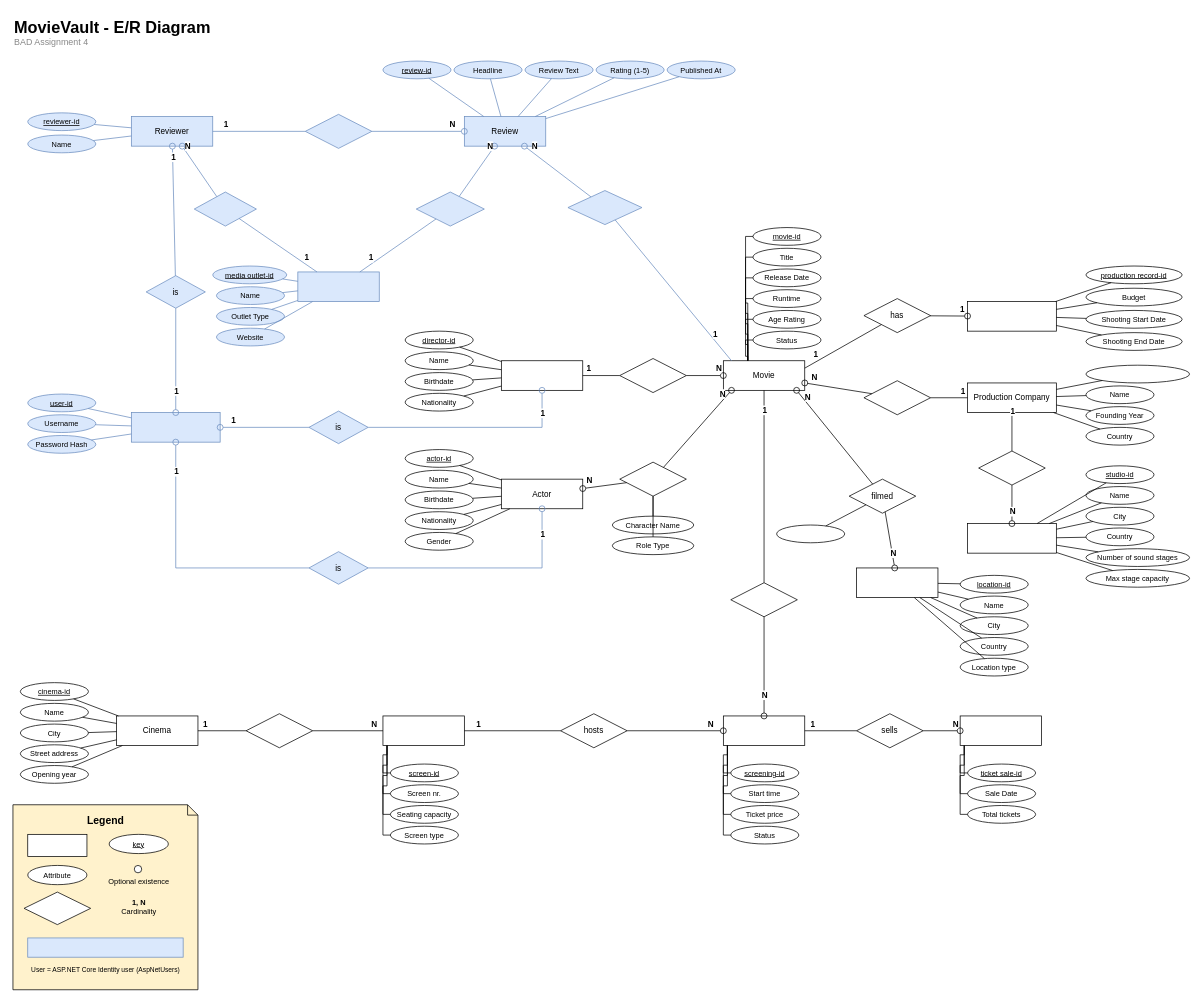
Image size: 1203x1003. Some labels were removed from this diagram. The box of each missing label's shape, as (x1, y1, x2, y2) in pixels:
contains: (245, 713, 313, 748)
Director: (501, 360, 583, 390)
directs: (619, 358, 686, 393)
employs: (194, 191, 256, 226)
Entity: (27, 834, 87, 857)
features: (619, 461, 686, 496)
Location: (856, 567, 938, 598)
Media Outlet: (297, 271, 379, 302)
New in Assignment 4: (27, 937, 183, 957)
owns: (978, 450, 1045, 485)
produces: (863, 380, 931, 415)
production company-id: (1085, 364, 1190, 383)
Production Record: (967, 301, 1056, 331)
publishes: (416, 191, 484, 226)
Relationship: (23, 891, 91, 925)
reviewed in: (567, 190, 642, 225)
Screen: (382, 715, 464, 746)
Screening: (723, 715, 805, 746)
Shooting days: (776, 524, 845, 543)
shows: (730, 582, 797, 617)
Studio: (967, 523, 1056, 553)
Ticket Sale: (959, 715, 1042, 746)
User (Identity): (131, 412, 220, 442)
writes: (305, 114, 372, 148)
